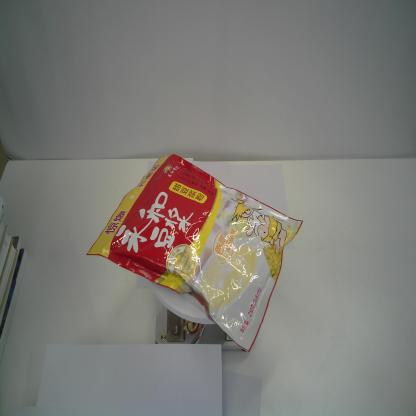Instant Drink: (86, 153, 304, 356)
